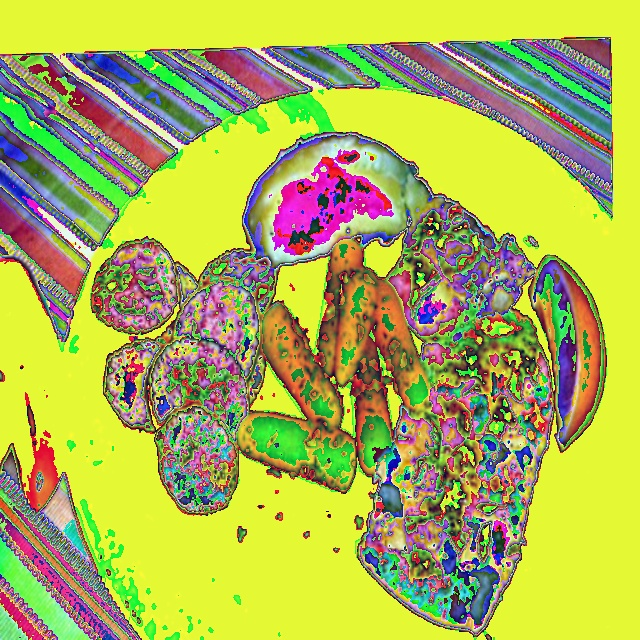background: (88, 132, 608, 638), (0, 254, 67, 510)
